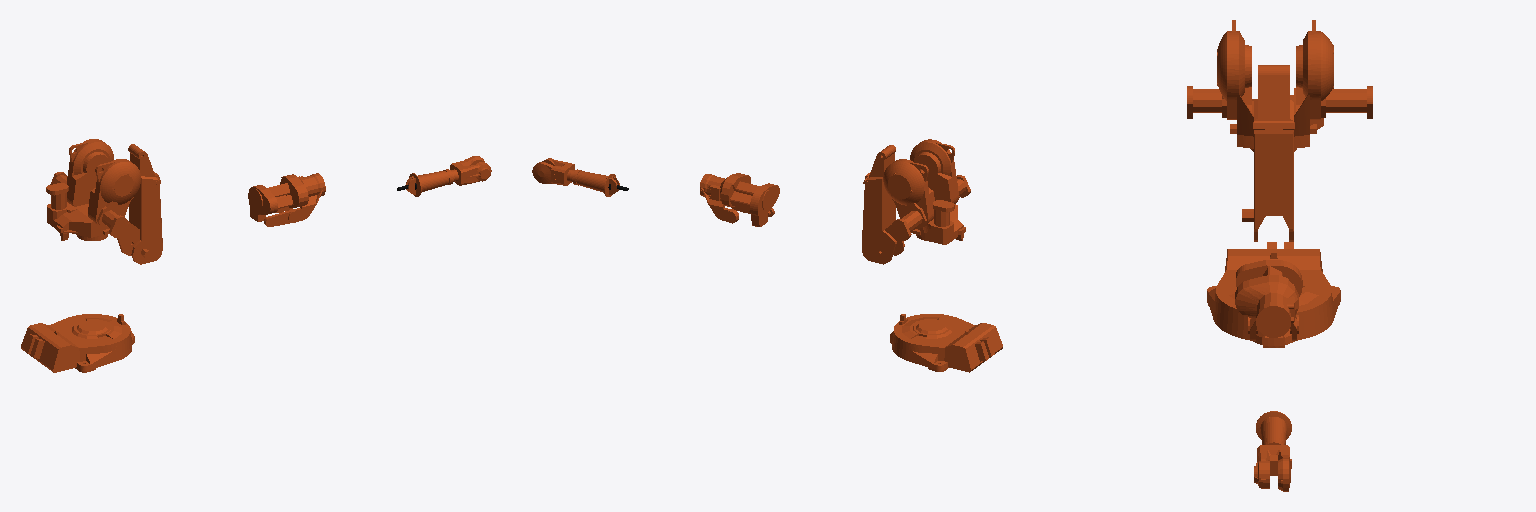
The robot description file, URDF, robot "kuka_kr120r2500pro":
<?xml version="1.0" ?>
<!-- =================================================================================== -->
<!-- |    This document was autogenerated by xacro from kr120r2500pro.xacro            | -->
<!-- |    EDITING THIS FILE BY HAND IS NOT RECOMMENDED                                 | -->
<!-- =================================================================================== -->
<!--Generates a urdf from the macro in kr120r2500pro_macro.xacro -->
<robot name="kuka_kr120r2500pro" xmlns:xacro="http://wiki.ros.org/xacro">
  <link name="base_link">
    <inertial>
      <origin rpy="0 0 0" xyz="0 0 0"/>
      <mass value="2"/>
      <inertia ixx="0.01" ixy="0" ixz="0" iyy="0.01" iyz="0" izz="0.01"/>
    </inertial>
    <visual>
      <origin rpy="0 0 0" xyz="0 0 0"/>
      <geometry>
        <mesh filename="package://visual/base_link.dae"/>
      </geometry>
    </visual>
    <collision>
      <origin rpy="0 0 0" xyz="0 0 0"/>
      <geometry>
        <mesh filename="package://collision/base_link.stl"/>
      </geometry>
    </collision>
  </link>
  <link name="link_1">
    <inertial>
      <origin rpy="0 0 0" xyz="0 0 0"/>
      <mass value="2"/>
      <inertia ixx="0.01" ixy="0" ixz="0" iyy="0.01" iyz="0" izz="0.01"/>
    </inertial>
    <visual>
      <origin rpy="0 0 0" xyz="0 0 0"/>
      <geometry>
        <mesh filename="package://visual/link_1.dae"/>
      </geometry>
    </visual>
    <collision>
      <origin rpy="0 0 0" xyz="0 0 0"/>
      <geometry>
        <mesh filename="package://collision/link_1.stl"/>
      </geometry>
    </collision>
  </link>
  <link name="link_2">
    <inertial>
      <origin rpy="0 0 0" xyz="0 0 0"/>
      <mass value="2"/>
      <inertia ixx="0.01" ixy="0" ixz="0" iyy="0.01" iyz="0" izz="0.01"/>
    </inertial>
    <visual>
      <origin rpy="0 0 0" xyz="0 0 0"/>
      <geometry>
        <mesh filename="package://visual/link_2.dae"/>
      </geometry>
    </visual>
    <collision>
      <origin rpy="0 0 0" xyz="0 0 0"/>
      <geometry>
        <mesh filename="package://collision/link_2.stl"/>
      </geometry>
    </collision>
  </link>
  <link name="link_3">
    <inertial>
      <origin rpy="0 0 0" xyz="0 0 0"/>
      <mass value="2"/>
      <inertia ixx="0.01" ixy="0" ixz="0" iyy="0.01" iyz="0" izz="0.01"/>
    </inertial>
    <visual>
      <origin rpy="0 0 0" xyz="0 0 0"/>
      <geometry>
        <mesh filename="package://visual/link_3.dae"/>
      </geometry>
    </visual>
    <collision>
      <origin rpy="0 0 0" xyz="0 0 0"/>
      <geometry>
        <mesh filename="package://collision/link_3.stl"/>
      </geometry>
    </collision>
  </link>
  <link name="link_4">
    <inertial>
      <origin rpy="0 0 0" xyz="0 0 0"/>
      <mass value="2"/>
      <inertia ixx="0.01" ixy="0" ixz="0" iyy="0.01" iyz="0" izz="0.01"/>
    </inertial>
    <visual>
      <origin rpy="0 0 0" xyz="0 0 0"/>
      <geometry>
        <mesh filename="package://visual/link_4.dae"/>
      </geometry>
    </visual>
    <collision>
      <origin rpy="0 0 0" xyz="0 0 0"/>
      <geometry>
        <mesh filename="package://collision/link_4.stl"/>
      </geometry>
    </collision>
  </link>
  <link name="link_5">
    <inertial>
      <origin rpy="0 0 0" xyz="0 0 0"/>
      <mass value="2"/>
      <inertia ixx="0.01" ixy="0" ixz="0" iyy="0.01" iyz="0" izz="0.01"/>
    </inertial>
    <visual>
      <origin rpy="0 0 0" xyz="0 0 0"/>
      <geometry>
        <mesh filename="package://visual/link_5.dae"/>
      </geometry>
    </visual>
    <collision>
      <origin rpy="0 0 0" xyz="0 0 0"/>
      <geometry>
        <mesh filename="package://collision/link_5.stl"/>
      </geometry>
    </collision>
  </link>
  <link name="link_6">
    <inertial>
      <origin rpy="0 0 0" xyz="0 0 0"/>
      <mass value="2"/>
      <inertia ixx="0.01" ixy="0" ixz="0" iyy="0.01" iyz="0" izz="0.01"/>
    </inertial>
    <visual>
      <origin rpy="0 0 0" xyz="0 0 0"/>
      <geometry>
        <mesh filename="package://visual/link_6.dae"/>
      </geometry>
    </visual>
    <collision>
      <origin rpy="0 0 0" xyz="0 0 0"/>
      <geometry>
        <mesh filename="package://collision/link_6.stl"/>
      </geometry>
    </collision>
  </link>
  <link name="tool0"/>
  <joint name="joint_a1" type="revolute">
    <origin rpy="0 0 0" xyz="0 0 0.675"/>
    <parent link="base_link"/>
    <child link="link_1"/>
    <axis xyz="0 0 -1"/>
    <limit effort="0" lower="-3.22885911619" upper="3.22885911619" velocity="2.72271363311"/>
  </joint>
  <joint name="joint_a2" type="revolute">
    <origin rpy="0 0 0" xyz="0.35 0 0"/>
    <parent link="link_1"/>
    <child link="link_2"/>
    <axis xyz="0 1 0"/>
    <limit effort="0" lower="-2.70526034059" upper="0.610865238198" velocity="2.72271363311"/>
  </joint>
  <joint name="joint_a3" type="revolute">
    <origin rpy="0 0 0" xyz="1.150 0 0"/>
    <parent link="link_2"/>
    <child link="link_3"/>
    <axis xyz="0 1 0"/>
    <limit effort="0" lower="-2.26892802759" upper="2.68780704807" velocity="2.72271363311"/>
  </joint>
  <joint name="joint_a4" type="revolute">
    <origin rpy="0 0 0" xyz="1.0 0 -0.041"/>
    <parent link="link_3"/>
    <child link="link_4"/>
    <axis xyz="-1 0 0"/>
    <limit effort="0" lower="-6.10865238198" upper="6.10865238198" velocity="5.75958653158"/>
  </joint>
  <joint name="joint_a5" type="revolute">
    <origin rpy="0 0 0" xyz="0 0 0"/>
    <parent link="link_4"/>
    <child link="link_5"/>
    <axis xyz="0 1 0"/>
    <limit effort="0" lower="-2.26892802759" upper="2.26892802759" velocity="5.75958653158"/>
  </joint>
  <joint name="joint_a6" type="revolute">
    <origin rpy="0 0 0" xyz="0 0 0"/>
    <parent link="link_5"/>
    <child link="link_6"/>
    <axis xyz="-1 0 0"/>
    <limit effort="0" lower="-6.10865238198" upper="6.10865238198" velocity="10.7337748998"/>
  </joint>
  <joint name="joint_a6-tool0" type="fixed">
    <parent link="link_6"/>
    <child link="tool0"/>
    <origin rpy="0 1.57079632679 0" xyz="0.215 0 0"/>
  </joint>
  <link name="base"/>
  <joint name="base_link-base" type="fixed">
    <origin rpy="0 0 0" xyz="0 0 0"/>
    <parent link="base_link"/>
    <child link="base"/>
  </joint>
</robot>

--- Render facts (derived) ---
3 views of the same robot in one strip: view 1: azimuth 30°, elevation 25°; view 2: azimuth 150°, elevation 25°; view 3: azimuth 270°, elevation 25° (orthographic).
Robot: kuka_kr120r2500pro — 9 links, 8 joints (6 revolute, 2 fixed); root link base_link; default pose: every joint at zero.
Visible links, largest first — view 1: link_1, base_link, link_2, link_3, link_4; view 2: link_1, base_link, link_2, link_3, link_4; view 3: link_1, link_2, base_link, link_3, link_4.
Boxes of the visible links, x1=… form: link_1: x1=46, y1=139, x2=140, y2=240; base_link: x1=21, y1=314, x2=134, y2=372; link_2: x1=117, y1=144, x2=162, y2=264; link_3: x1=248, y1=173, x2=325, y2=226; link_4: x1=409, y1=156, x2=491, y2=196; link_1: x1=883, y1=139, x2=970, y2=244; base_link: x1=890, y1=314, x2=1002, y2=372; link_2: x1=862, y1=145, x2=904, y2=264; link_3: x1=700, y1=173, x2=779, y2=226; link_4: x1=532, y1=158, x2=616, y2=196; link_1: x1=1187, y1=20, x2=1372, y2=151; link_2: x1=1242, y1=65, x2=1294, y2=241; base_link: x1=1207, y1=242, x2=1340, y2=347; link_3: x1=1235, y1=260, x2=1302, y2=340; link_4: x1=1254, y1=411, x2=1291, y2=491.
Size in the robot's own frame: 3.55 by 0.833 by 1.45 metres.
Meshes: 7 distinct files referenced, 7 mesh visuals loaded (7 Collada DAE).
